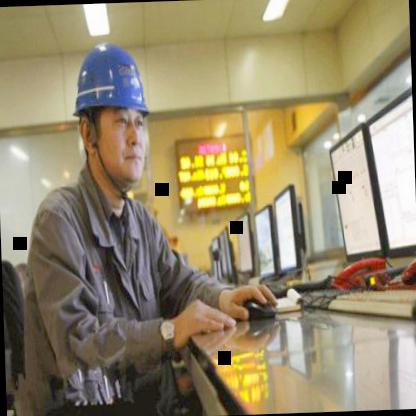helmet: (60, 27, 166, 202)
